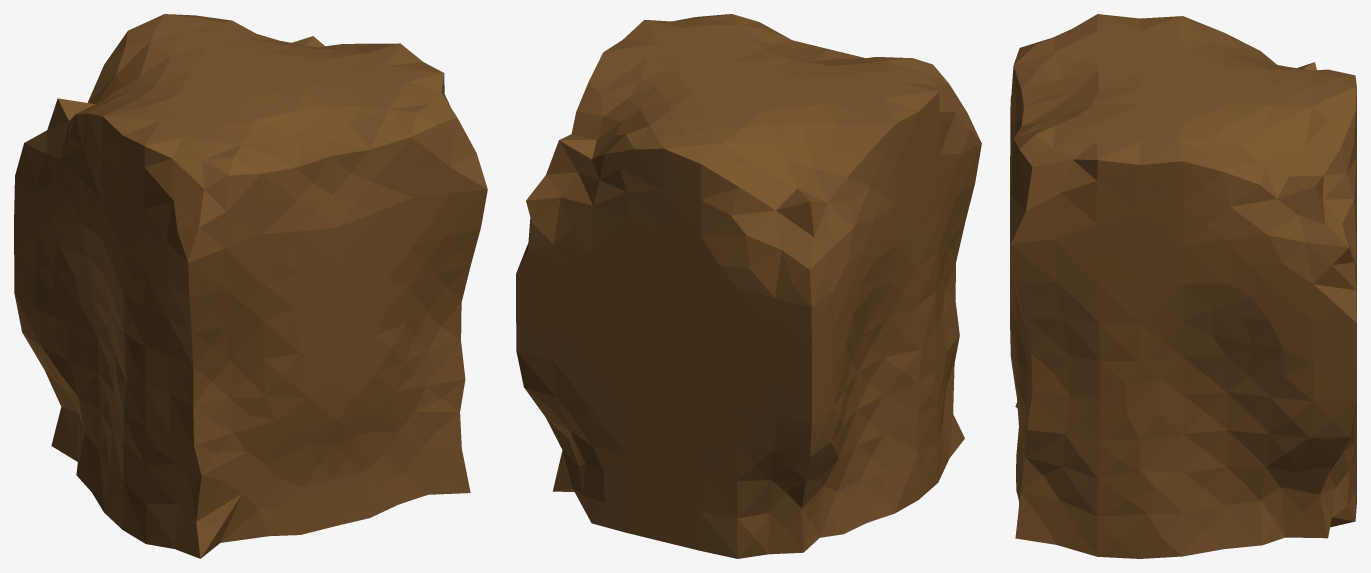
Rendered from rock.dae.
3 views of the same model, side by side, from view 1: azimuth 30°, elevation 25°; view 2: azimuth 150°, elevation 25°; view 3: azimuth 270°, elevation 25° (orthographic).
Visible parts, largest first — view 1: Rock; view 2: Rock; view 3: Rock.
Part boxes in pixels (left/top/right/bottom): Rock: left=14, top=14, right=487, bottom=558; Rock: left=516, top=14, right=981, bottom=558; Rock: left=1010, top=14, right=1356, bottom=558.
Bounding box in the file's own units: 2 × 2 × 2.54.
1 material, 1 textured.
